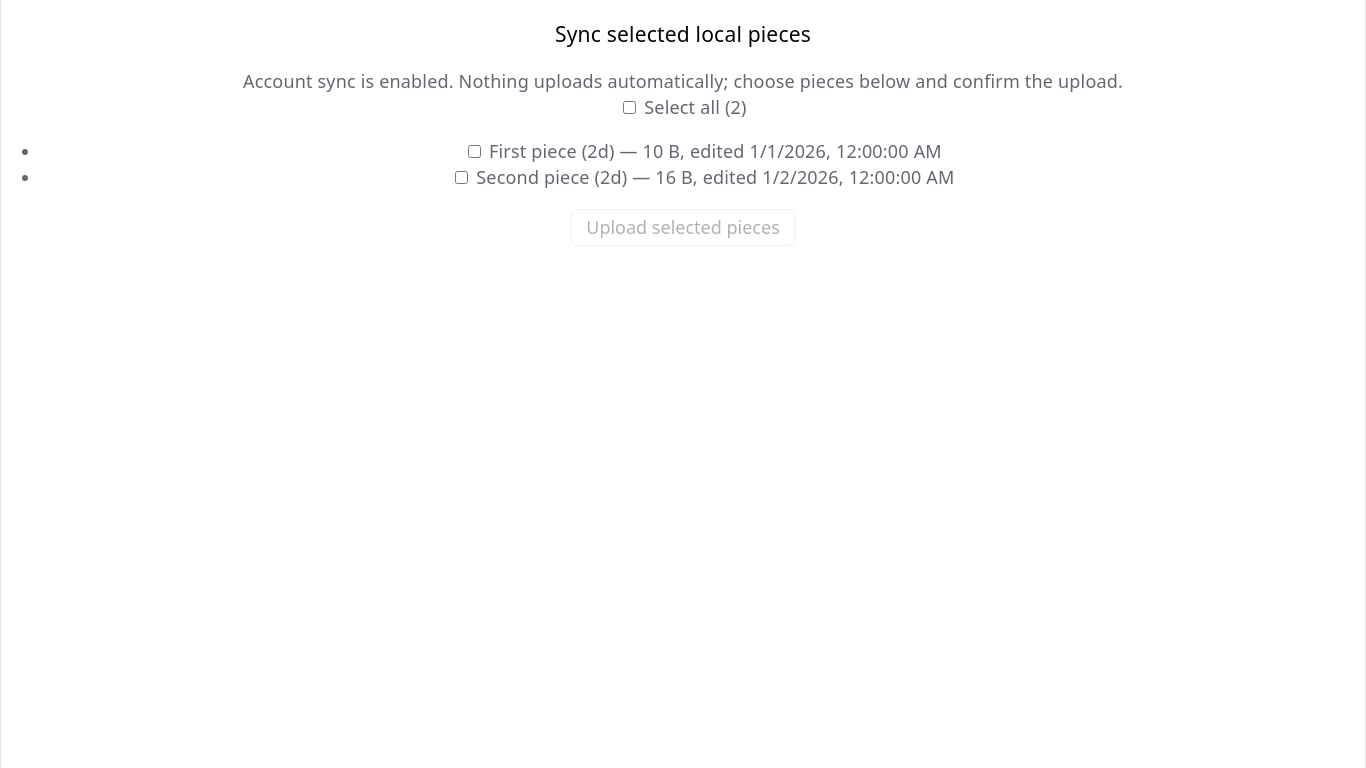
Scenario: LocalPieceSyncOffer quota accounting (#1099) › sums expanded piece and media bytes in the preview and uses the same measurements per upload
This screenshot has width=1366, height=768.
Expected: the text "First piece (2d) — 10 B, edited 1/1/2026, 12:00:00 AM" is shown, [464,139,942,163]
Click the checkbox labelled "First piece (2d) — 10 B, edited 1/1/2026, 12:00:00 AM": (475, 152) [468,145,481,158]
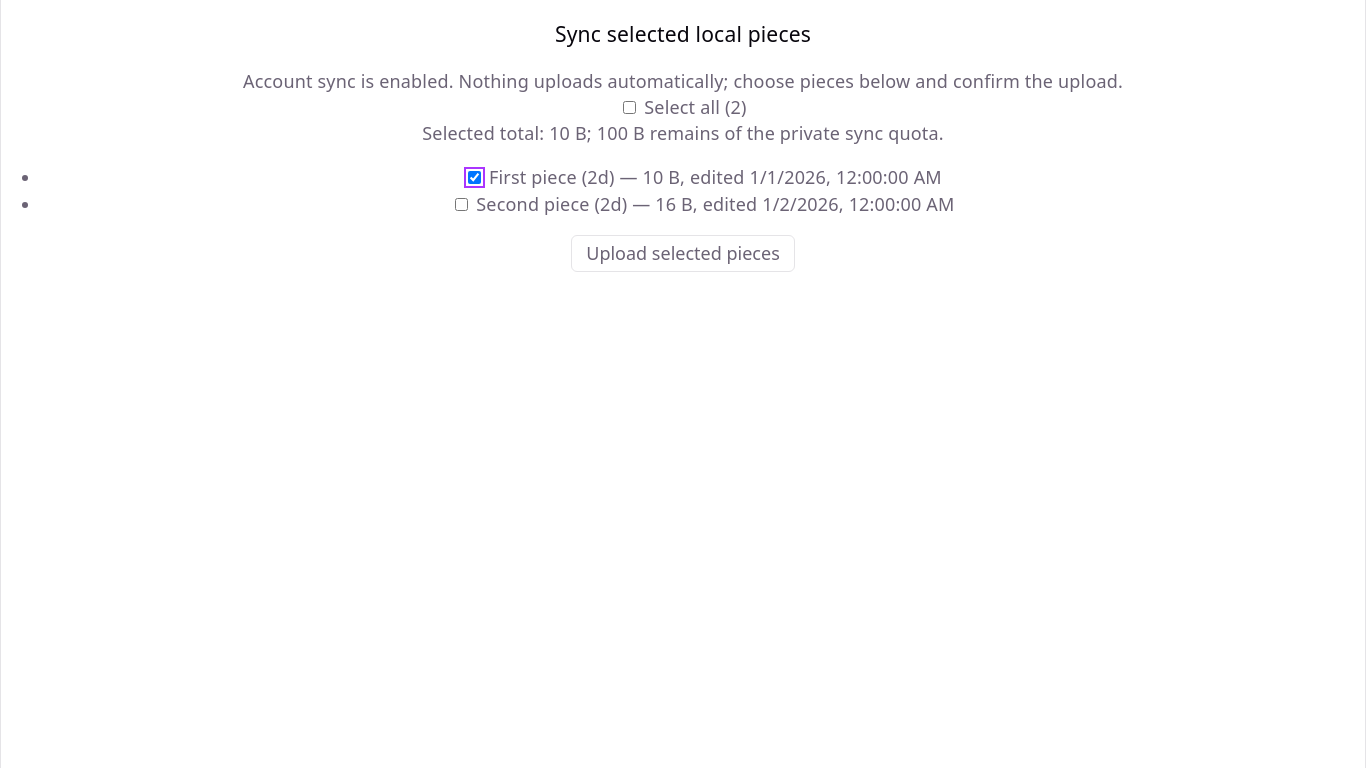
Click the checkbox labelled "Second piece (2d) — 16 B, edited 1/2/2026, 12:00:00 AM": (462, 204) [455,198,468,211]
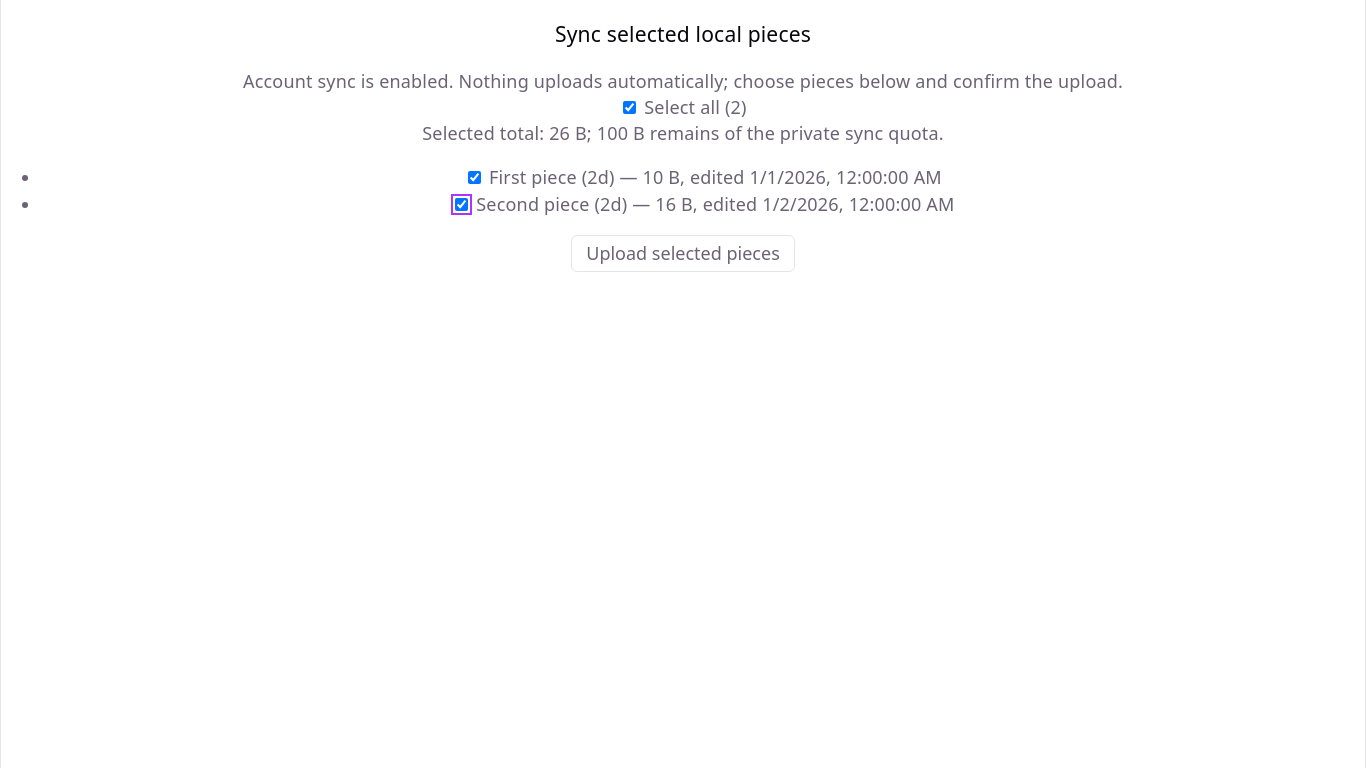
Result: the text "Selected total: 26 B; 100 B remains of the private sync quota." is shown at [422,121,944,145]
Click the button "Upload selected pieces": (683, 253) [571,235,795,272]
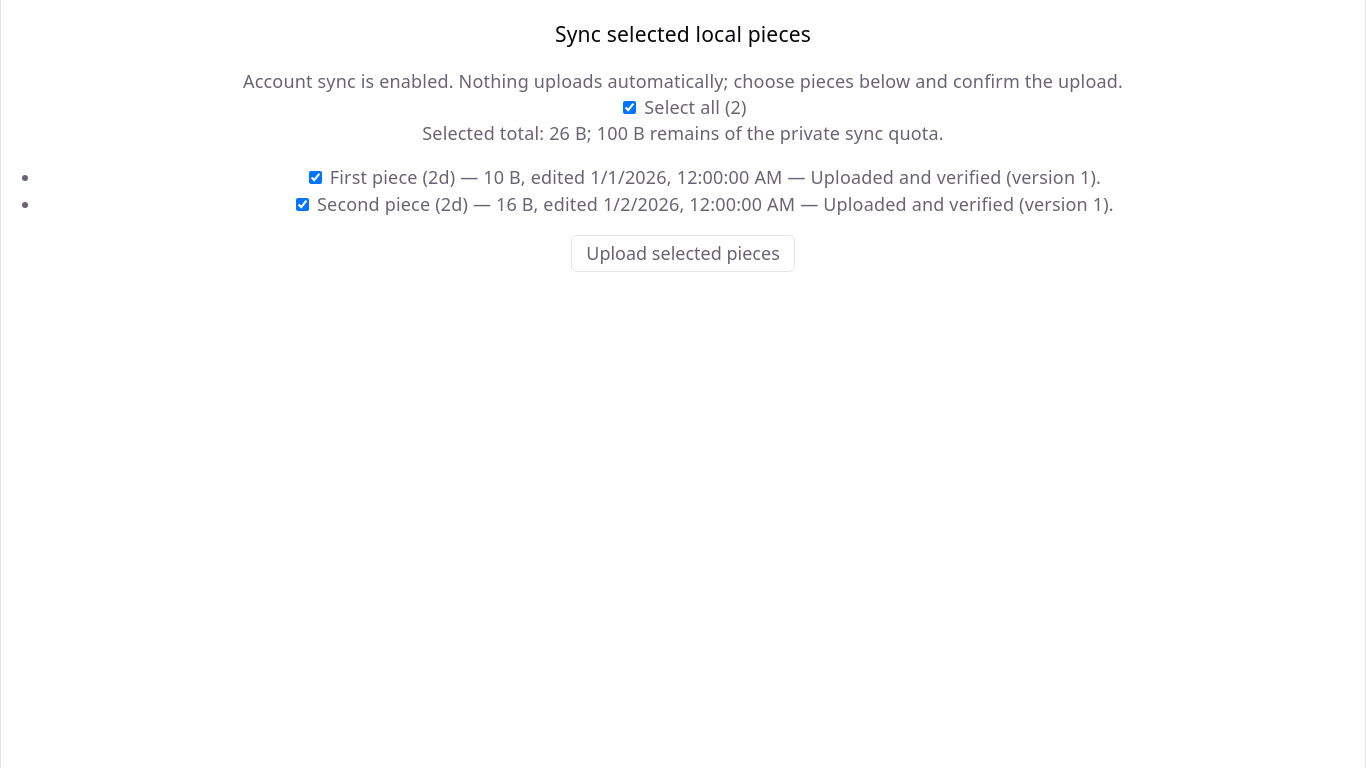
Result: the text "— Uploaded and verified (version 1)." is shown 2 times at [783,166,1101,190]; [795,192,1114,216]
